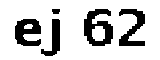2: (116, 6, 148, 54)
6: (80, 5, 113, 48)
e: (13, 18, 42, 48)
j: (42, 7, 63, 60)
